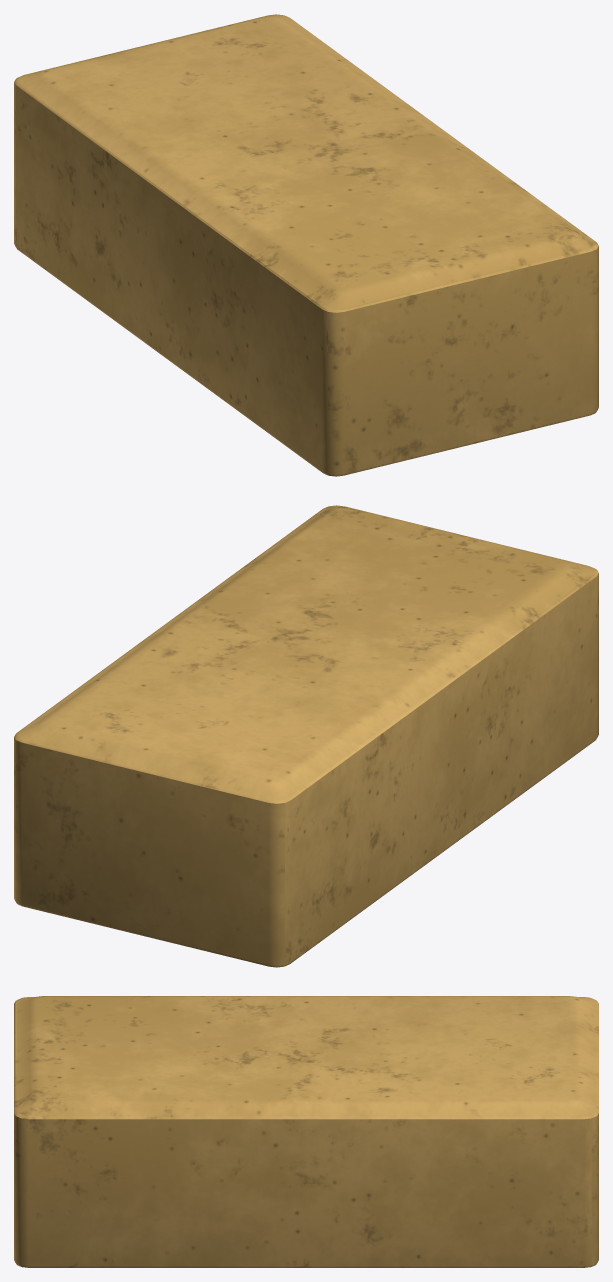
3 views of the same model, one above another, from view 1: azimuth 30°, elevation 25°; view 2: azimuth 150°, elevation 25°; view 3: azimuth 270°, elevation 25° (orthographic). The views are drawn at different scales.
Parts seen in each view (by area): view 1: Colonial Classic; view 2: Colonial Classic; view 3: Colonial Classic.
Boxes of the visible parts, x1,y1,x2,y2 form: Colonial Classic: (14, 14, 598, 476); Colonial Classic: (14, 505, 598, 967); Colonial Classic: (14, 996, 598, 1267).
Bounding box in the file's own units: 0.0984 × 0.0603 × 0.2.
Materials: 1 (1 with a texture image).
